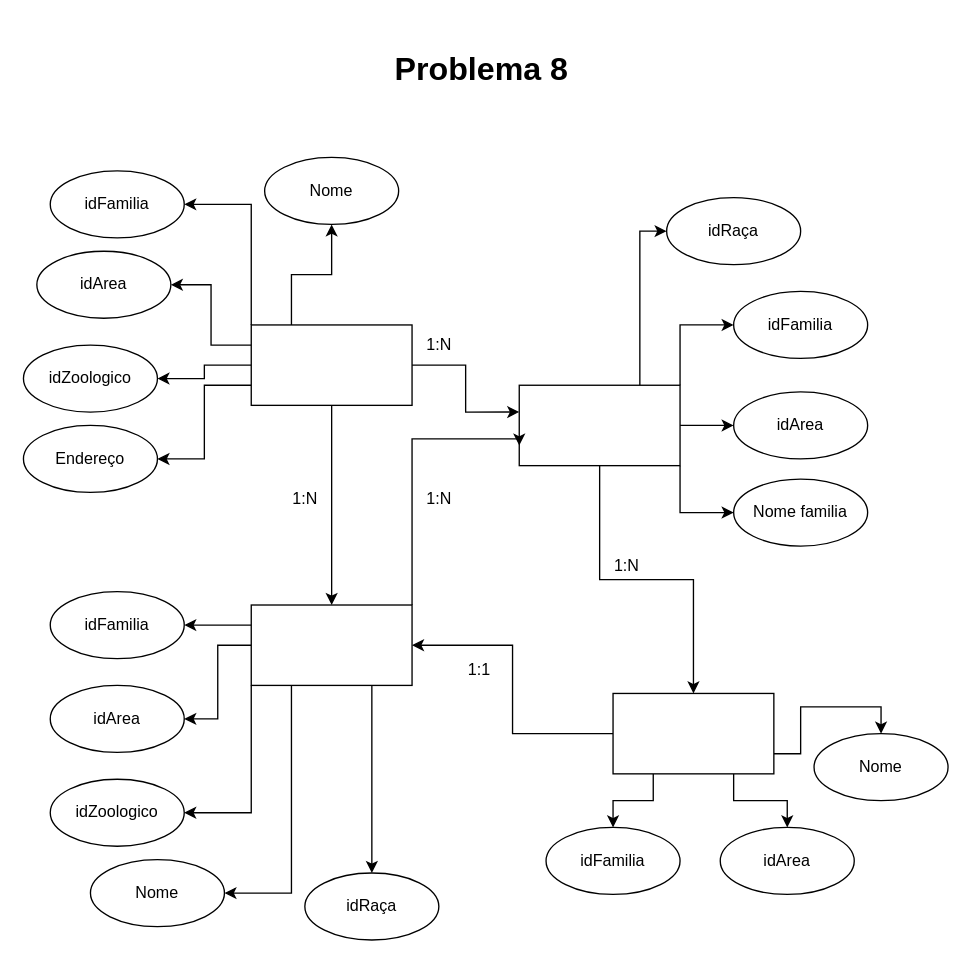
The diagram is 972 pixels wide and 963 high, and some of its shapes have lost their labels. The shapes that lost their labels are listed below. From the top down, each one's centre as x and y in pixels, then its label:
(331,364): Zoologico
(599,425): Familia
(331,644): Área
(693,733): Raça
